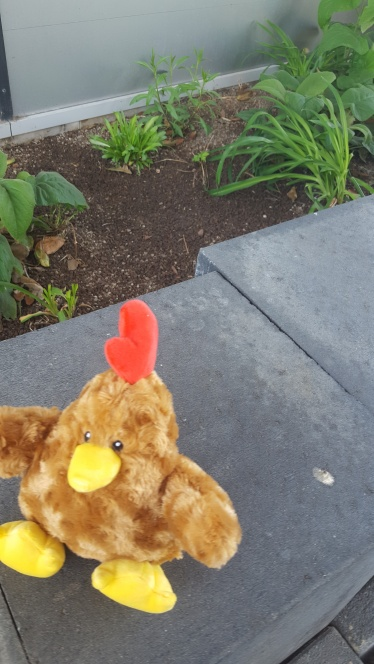chicken_front: (1, 296, 242, 616)
